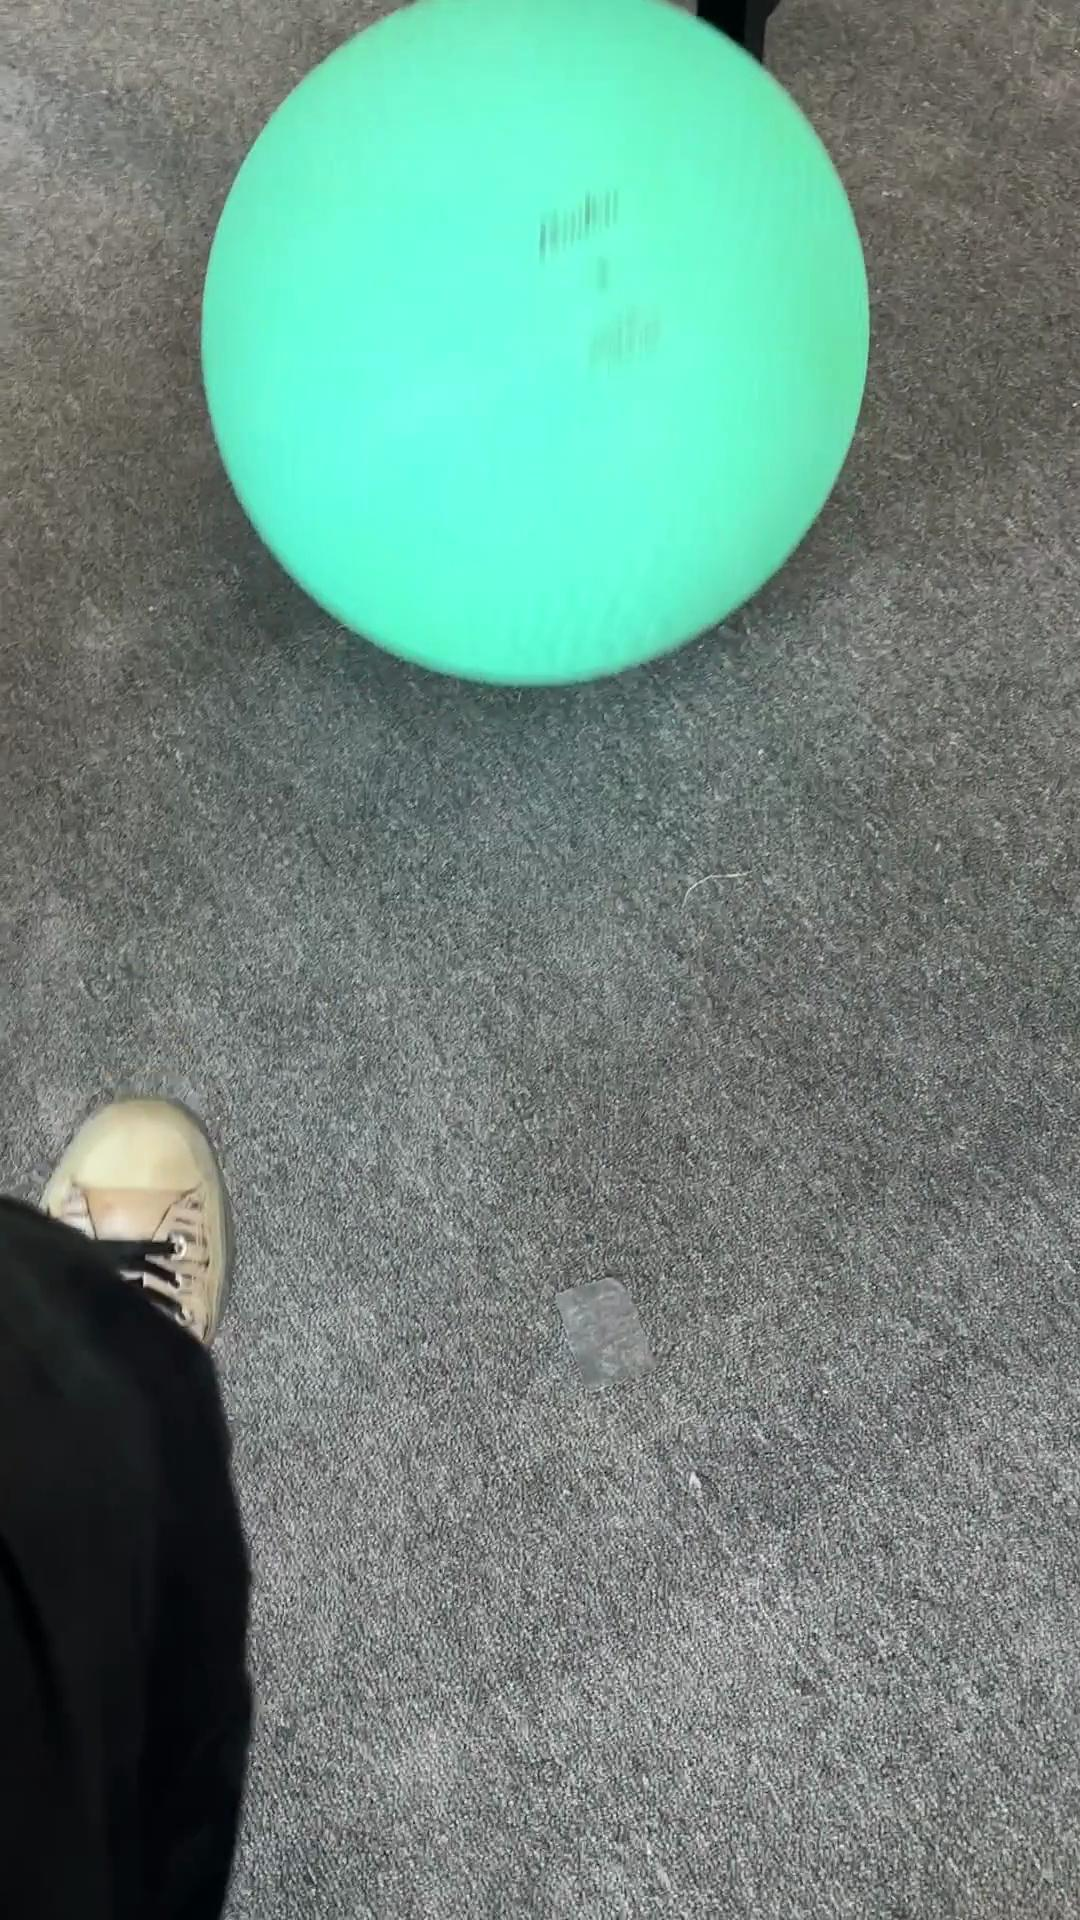ALGAE: (197, 1, 872, 688)
